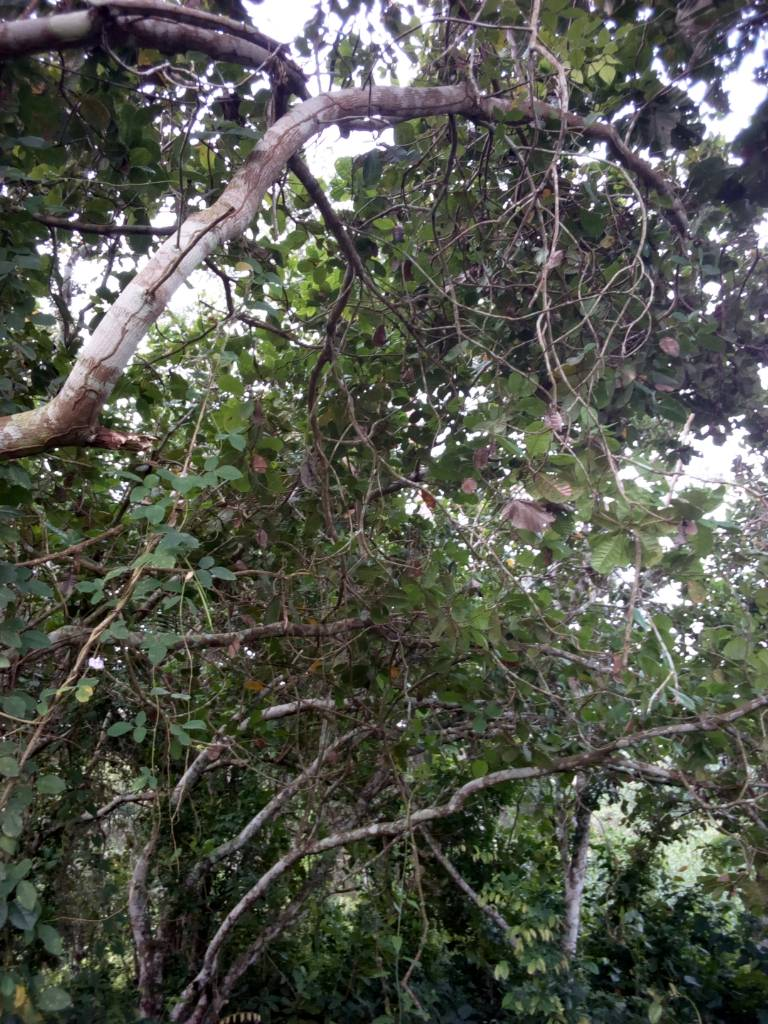Termites: (1, 397, 121, 457)
